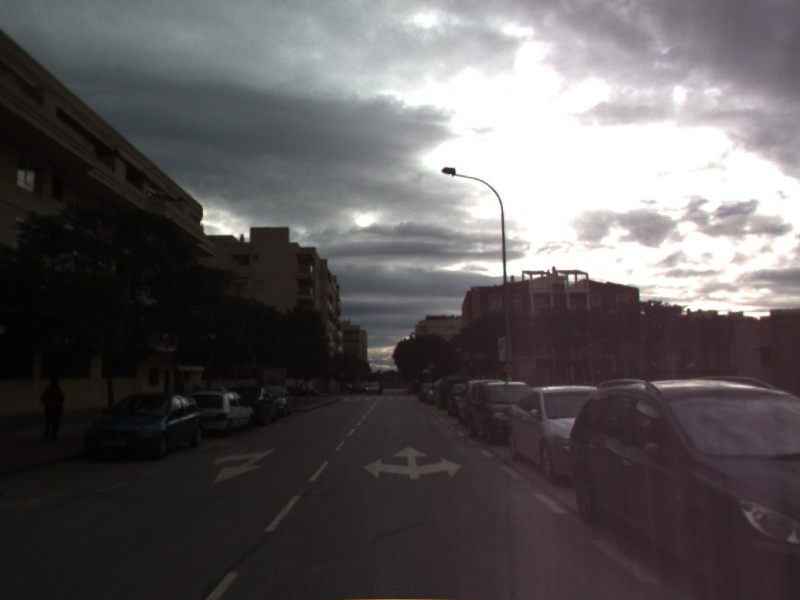STRAIGHT_LEFT_RIGHT: (360, 443, 464, 481)
